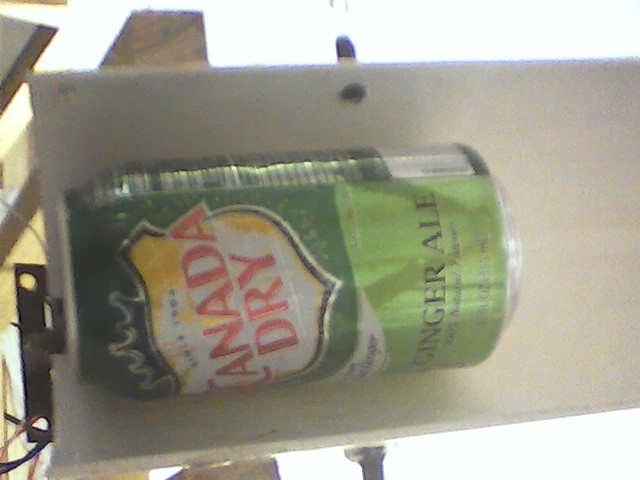lata: (56, 136, 527, 405)
